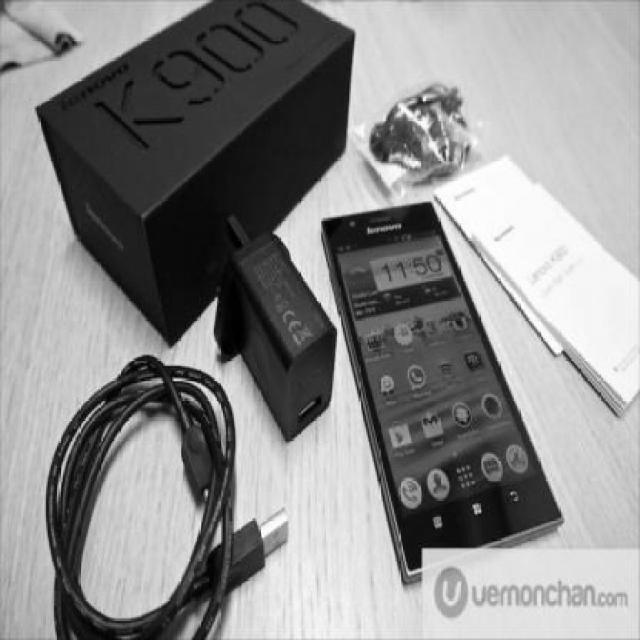fake: (314, 186, 562, 568)
